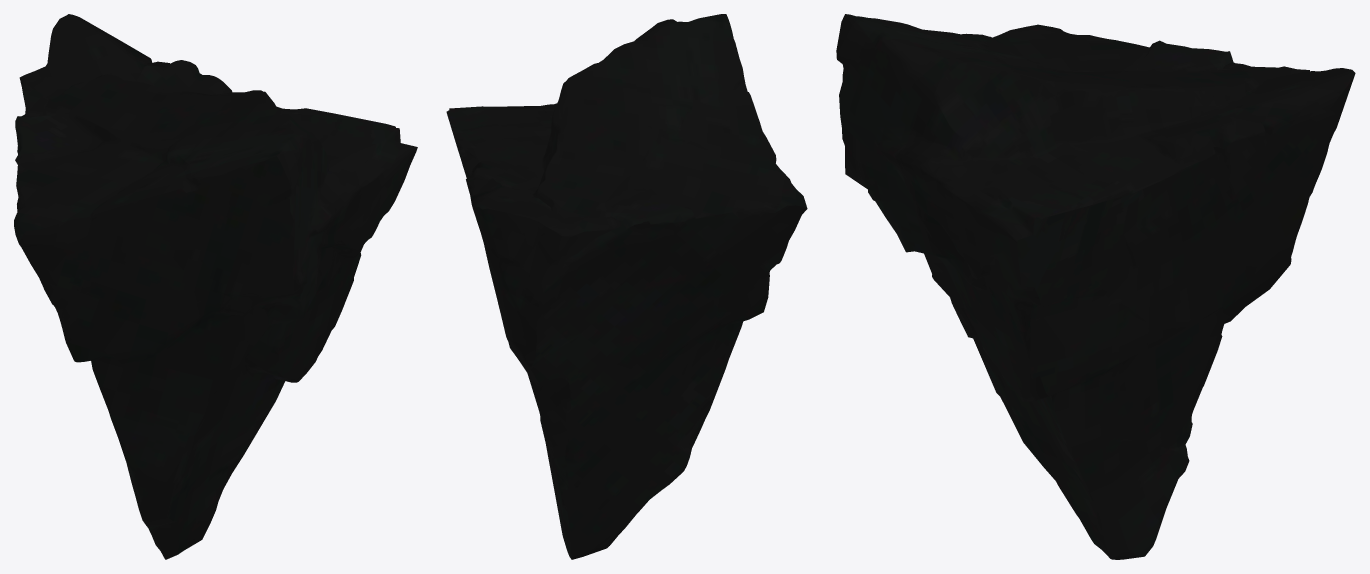
3 views of the same model, side by side, from view 1: azimuth 30°, elevation 25°; view 2: azimuth 150°, elevation 25°; view 3: azimuth 270°, elevation 25° (orthographic). The views are drawn at different scales.
Parts seen in each view (by area): view 1: SM_LimestoneMid_03_LOD0; view 2: SM_LimestoneMid_03_LOD0; view 3: SM_LimestoneMid_03_LOD0.
Boxes of the visible parts, x1,y1,x2,y2 form: SM_LimestoneMid_03_LOD0: (14, 14, 417, 559); SM_LimestoneMid_03_LOD0: (446, 14, 807, 559); SM_LimestoneMid_03_LOD0: (836, 14, 1355, 559).
Bounding box in the file's own units: 5.15 × 6.23 × 5.51.
Materials: 1 (1 with a texture image).
